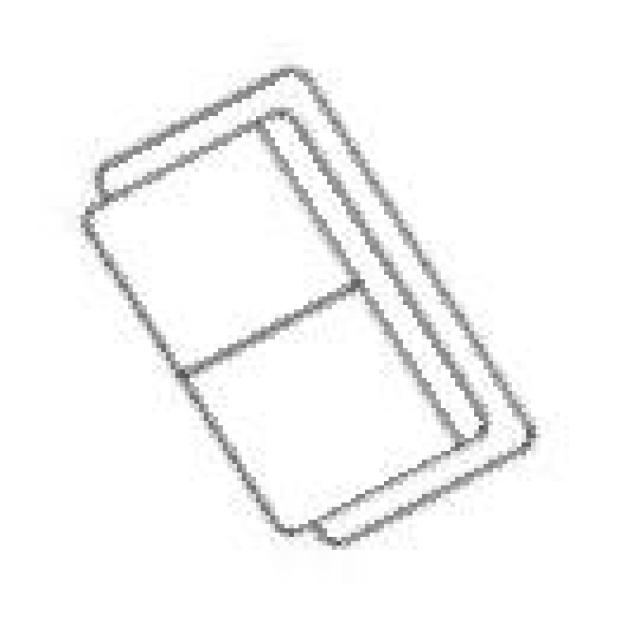sofa: (71, 64, 536, 546)
